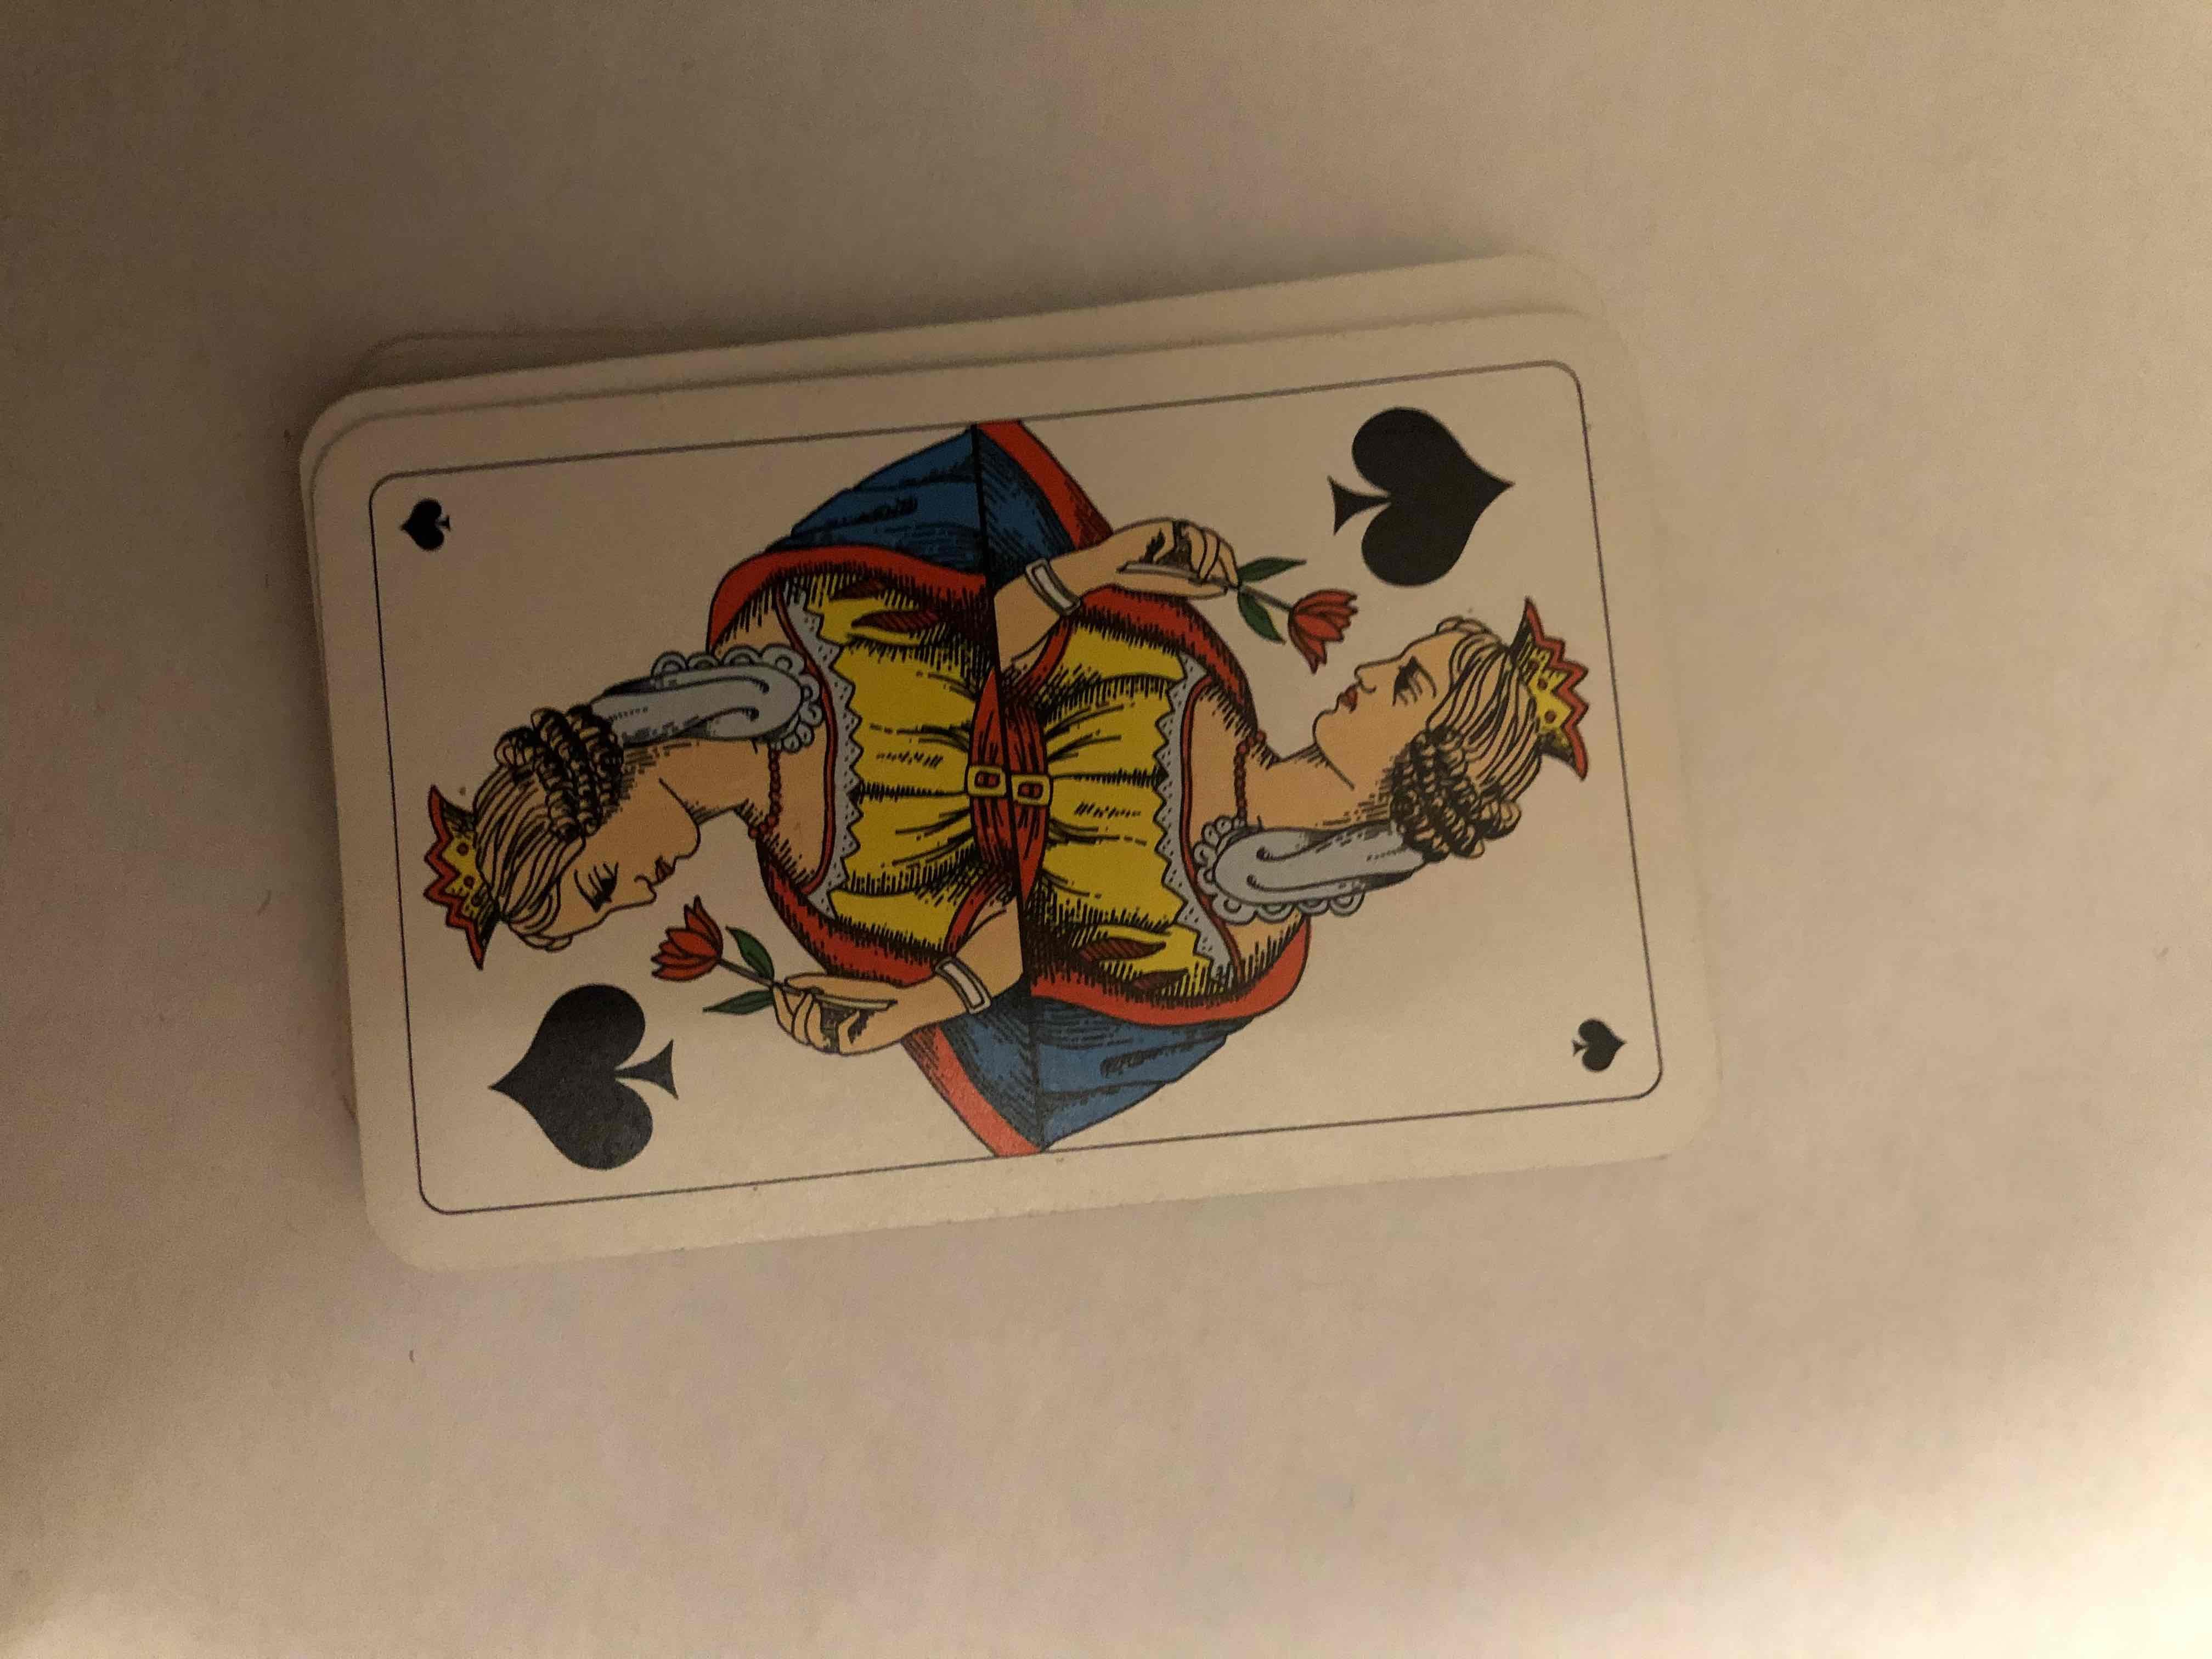spadesQueen: (308, 380, 1749, 1223)
